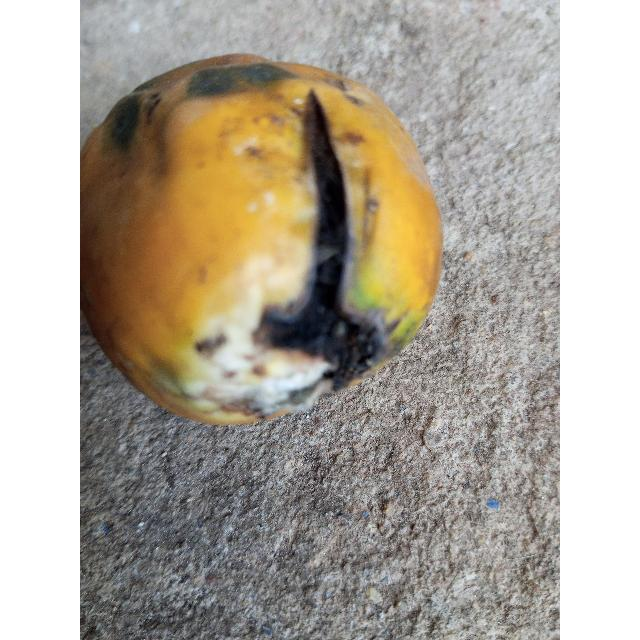damaged: (80, 55, 443, 424)
